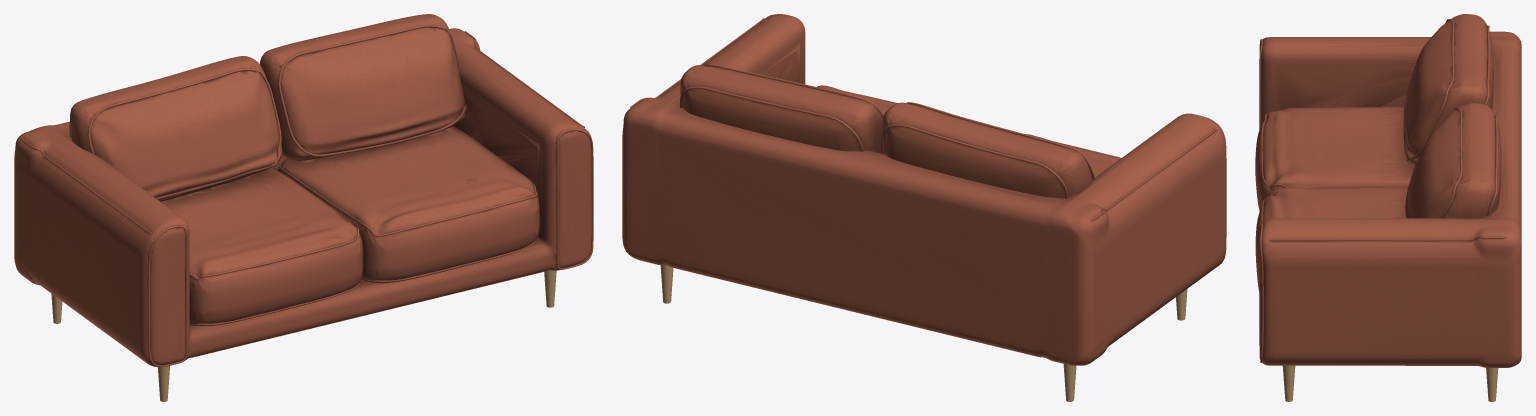
The model's file is pana-oxido.gltf.
The picture shows the model from 3 angles, left to right: view 1: azimuth 30°, elevation 25°; view 2: azimuth 150°, elevation 25°; view 3: azimuth 270°, elevation 25°; orthographic projection. The views are drawn at different scales.
Parts seen in each view (by area): view 1: tela_ar, madera_ar; view 2: tela_ar, madera_ar; view 3: tela_ar, madera_ar.
Part boxes in pixels (x1,y1,x2,y2): tela_ar: (14, 14, 593, 367); madera_ar: (51, 270, 556, 401); tela_ar: (622, 14, 1226, 365); madera_ar: (660, 265, 1187, 401); tela_ar: (1255, 14, 1521, 367); madera_ar: (1282, 365, 1498, 401).
Bounding box in the file's own units: 1.7 × 0.8275 × 0.9121.
Materials: 2 (2 with a texture image).
